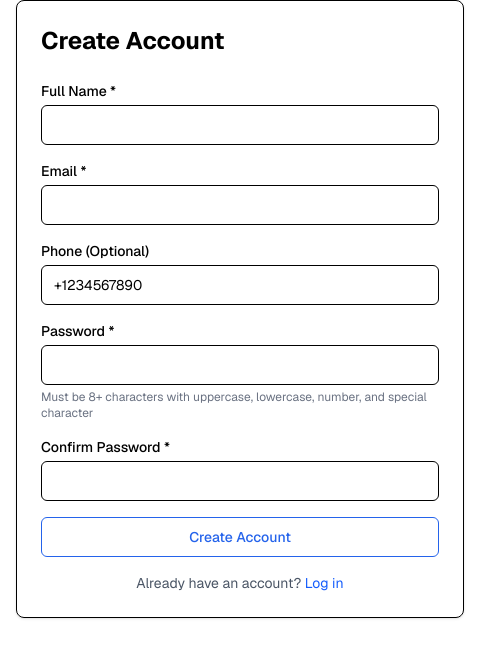
Scenario: RegisterForm › Form Validation - Required Fields › shows error when email is missing
Type "John Doe" into the field labelled "Full Name *" at (240, 125), box left=41, top=105, right=439, bottom=145
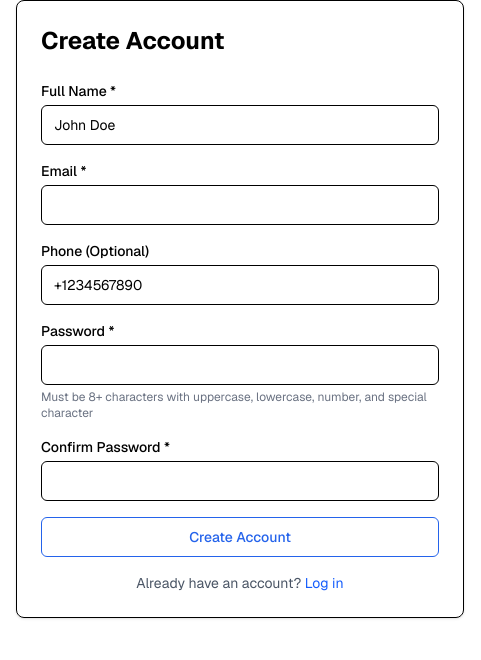
Type "SecurePass123!" into the password field labelled "Password *" at (240, 365), box left=41, top=345, right=439, bottom=385
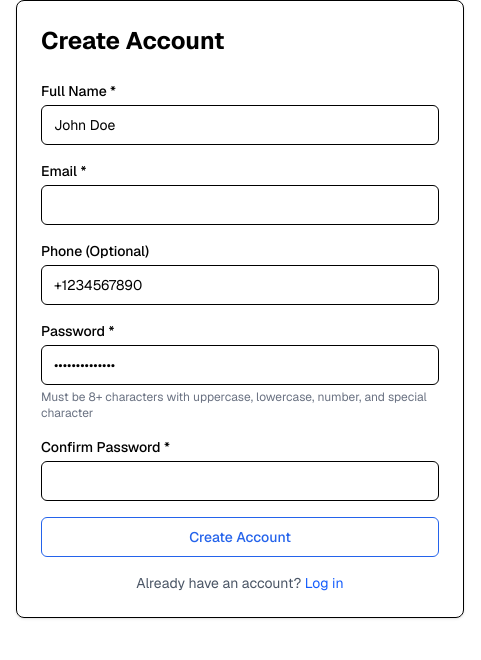
Type "SecurePass123!" into the password field labelled "Confirm Password *" at (240, 481), box left=41, top=461, right=439, bottom=501
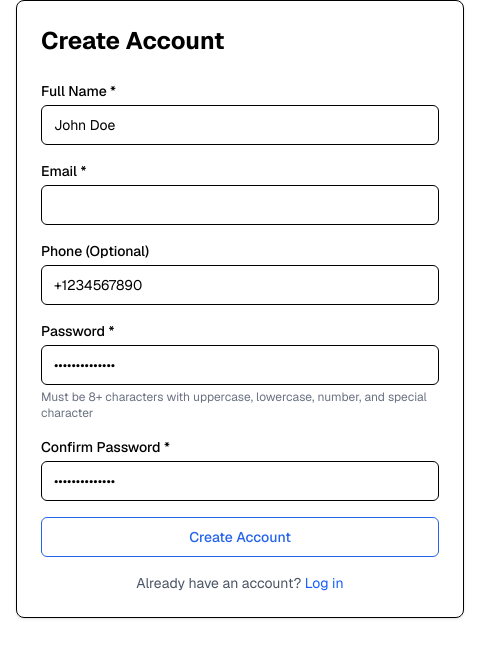
Click the button "Create Account" at (240, 537), box left=41, top=517, right=439, bottom=557
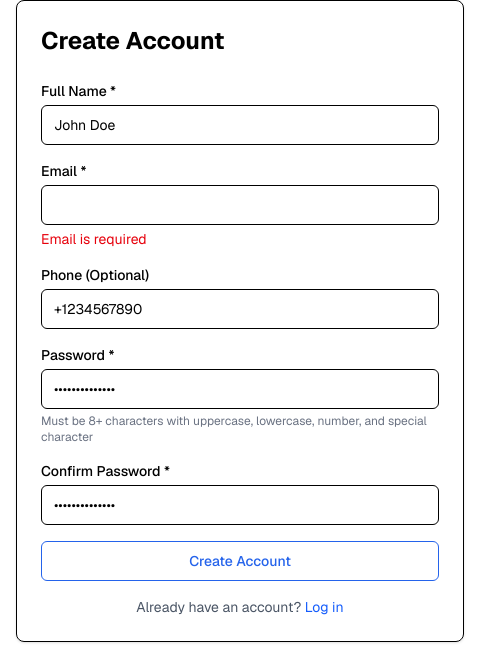
Check: the text "Email is required" is shown, box left=41, top=230, right=147, bottom=248
